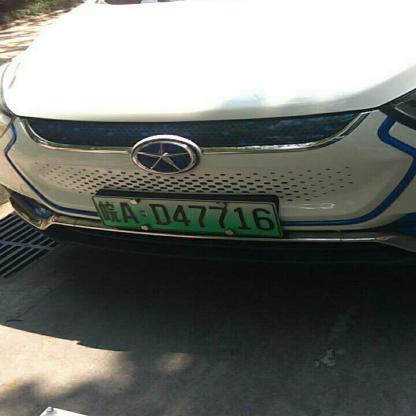lp: (92, 195, 281, 236)
